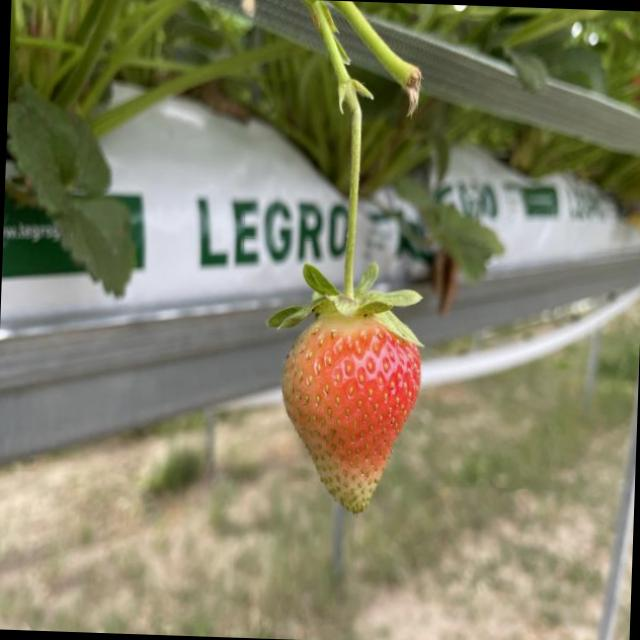stem: (273, 1, 420, 342)
strawberryR: (280, 315, 420, 510)
